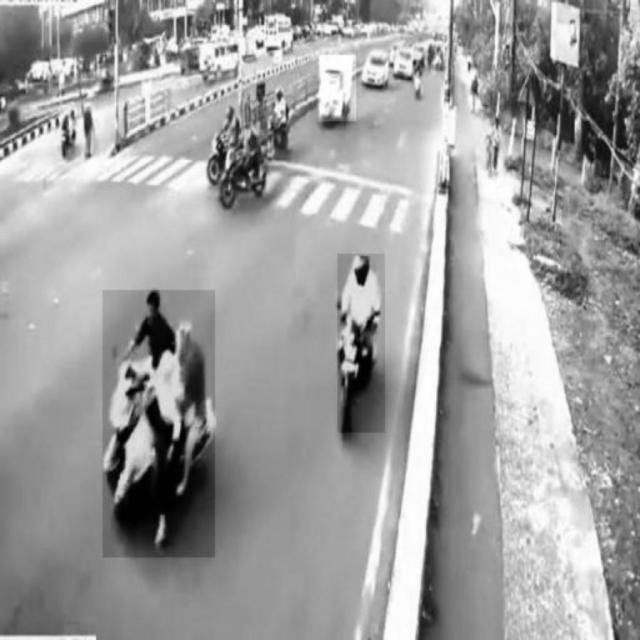accident: (102, 290, 214, 558)
vehicle: (337, 254, 385, 432), (218, 120, 268, 202), (320, 55, 357, 121)
